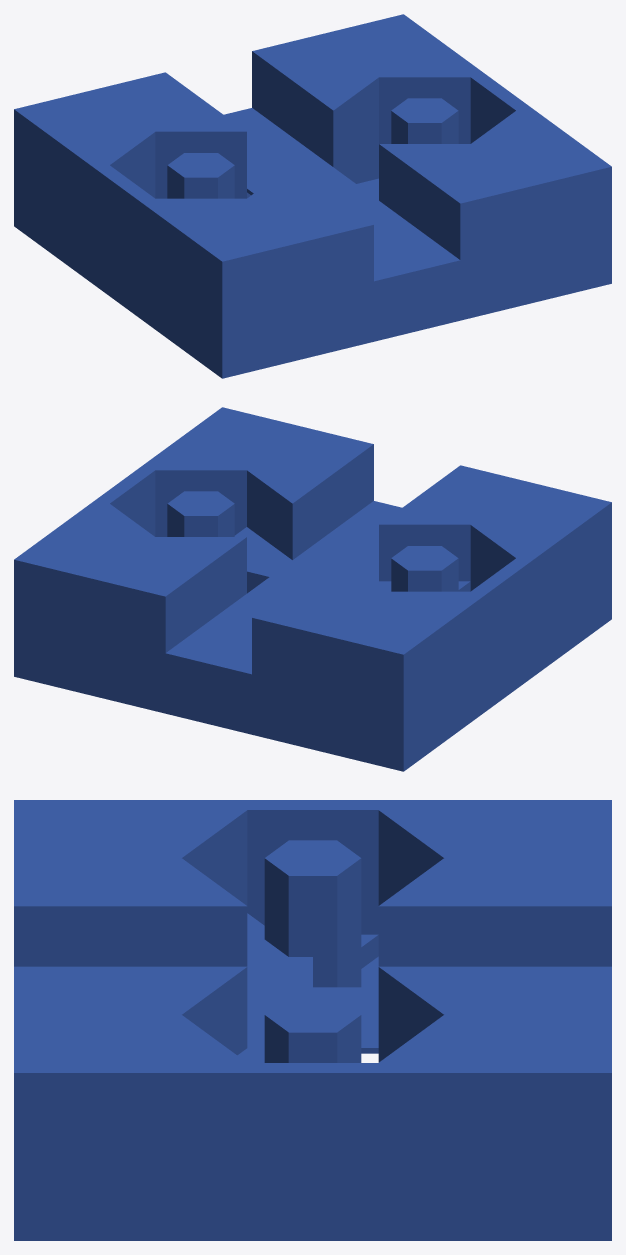
Rendered from map.dae.
3 renders of one model, top to bottom at view 1: azimuth 30°, elevation 25°; view 2: azimuth 150°, elevation 25°; view 3: azimuth 270°, elevation 25°, orthographic. The views are drawn at different scales.
Visible parts, largest first — view 1: 5e2c4026bb7d1715bfd5739b; view 2: 5e2c4026bb7d1715bfd5739b; view 3: 5e2c4026bb7d1715bfd5739b.
Part boxes in pixels (x1,y1,x2,y2): 5e2c4026bb7d1715bfd5739b: [14, 14, 611, 378]; 5e2c4026bb7d1715bfd5739b: [14, 407, 611, 771]; 5e2c4026bb7d1715bfd5739b: [14, 800, 611, 1240].
Size of the model in its own units: 0.54 by 0.5 by 0.155.
